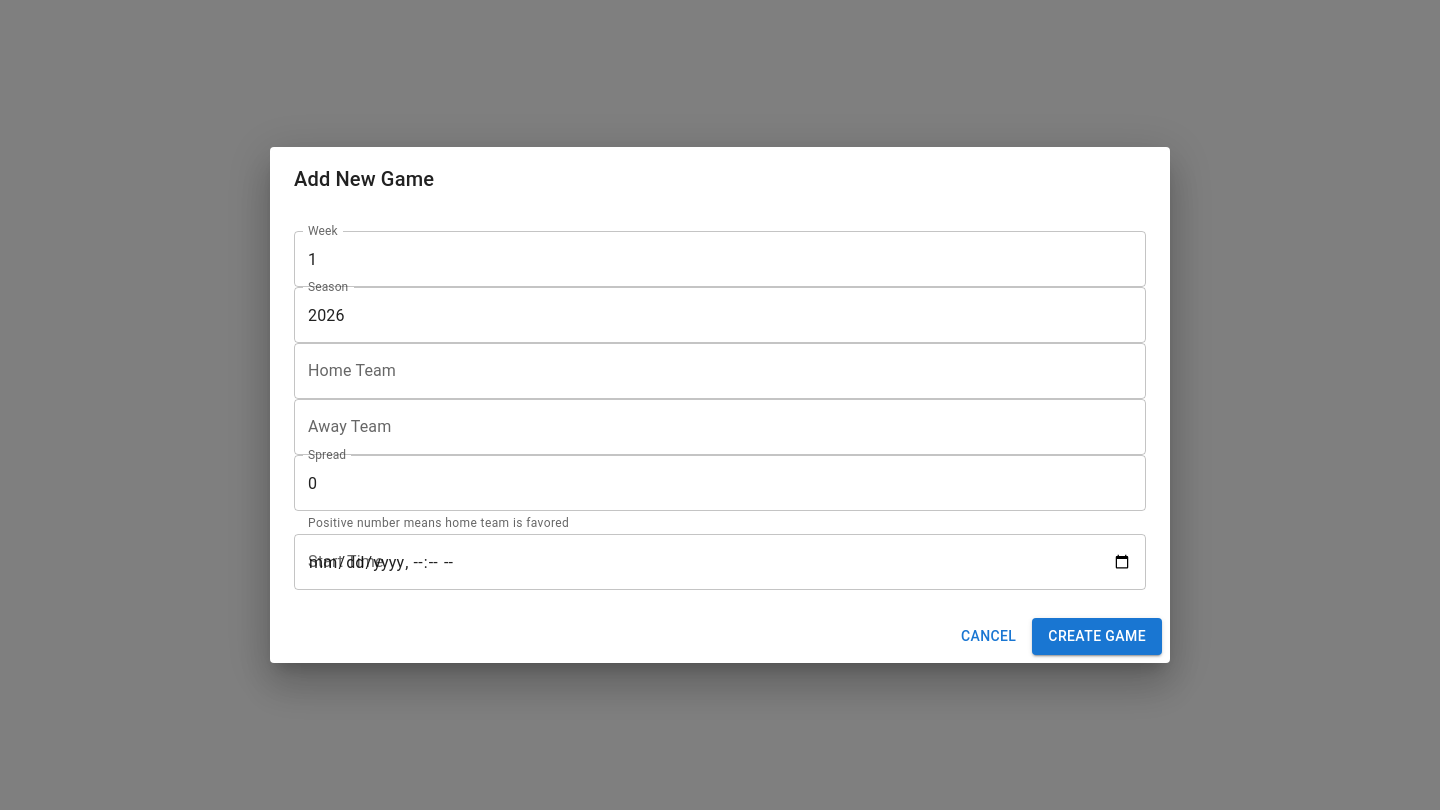
Test: GameForm › shows validation errors for invalid input
Click the button "Create Game": (1097, 636) [1032, 618, 1162, 655]
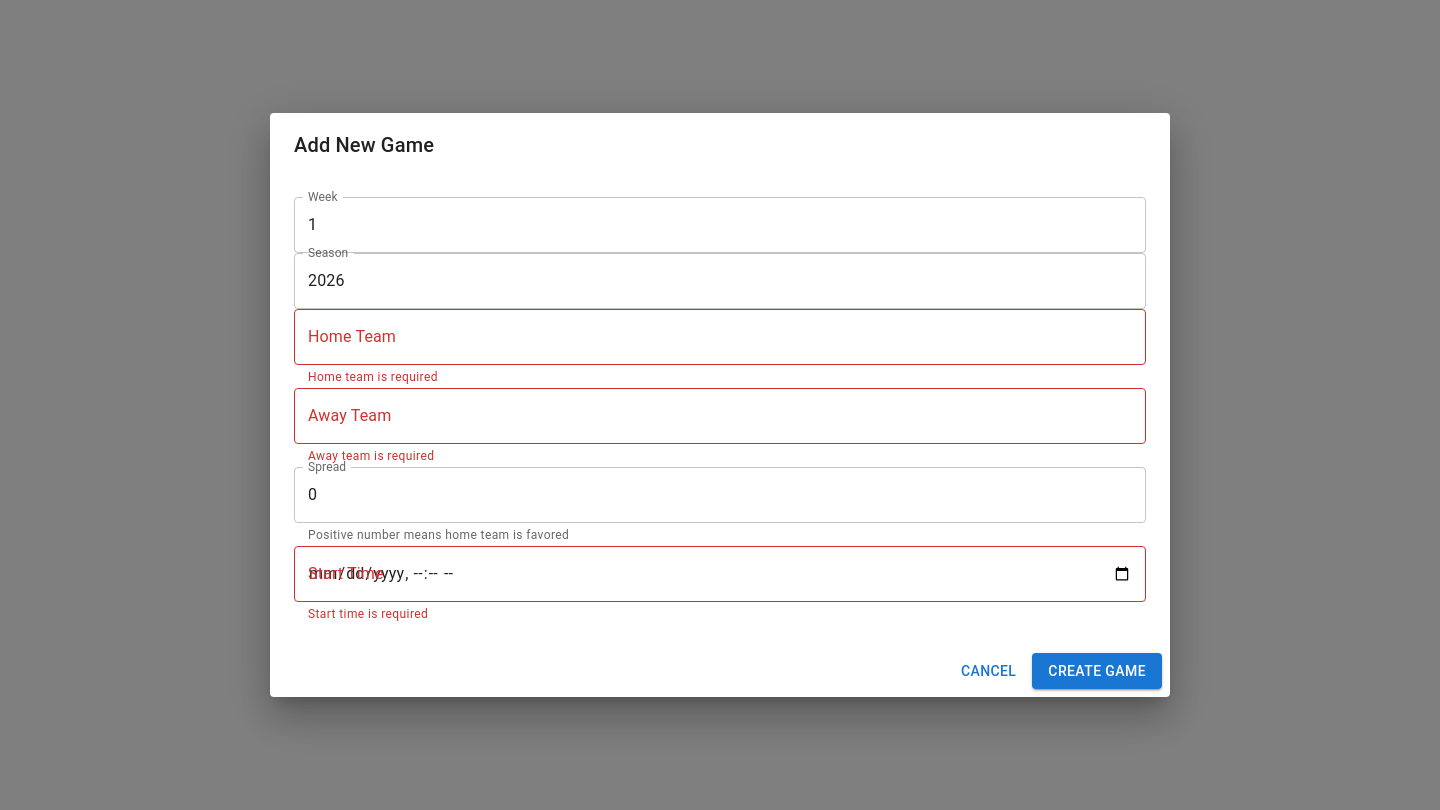
expect the text "Home team is required" is shown 3 times: met, box [308, 370, 438, 384]; [308, 449, 434, 463]; [308, 607, 428, 621]
